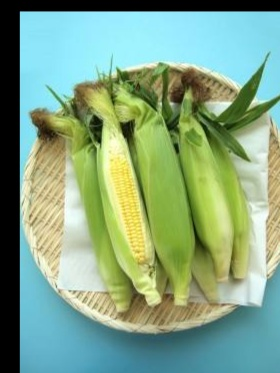corn: (103, 139, 147, 270)
corn_plant: (50, 115, 131, 306), (122, 86, 189, 285), (175, 100, 231, 273)
